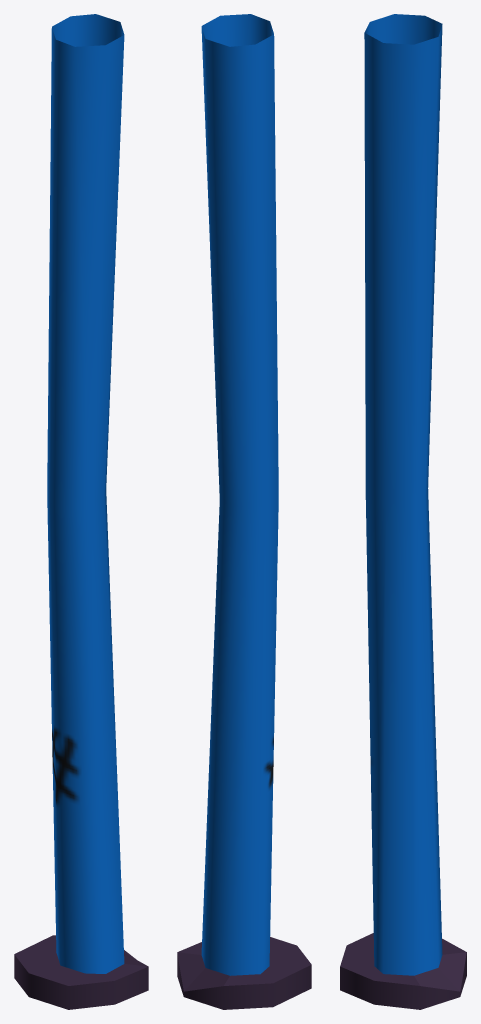
File: Tap_Half_Pipe_.fbx
The picture shows the model from 3 angles, left to right: view 1: azimuth 30°, elevation 25°; view 2: azimuth 210°, elevation 25°; view 3: azimuth 330°, elevation 25°; orthographic projection.
Parts seen in each view (by area): view 1: Cylinder005; view 2: Cylinder005; view 3: Cylinder005.
Part boxes in pixels (x1,y1,x2,y2): Cylinder005: (14,14,148,1009); Cylinder005: (177,14,311,1009); Cylinder005: (340,14,466,1009).
Size of the model in its own units: 0.1093 by 0.8772 by 0.1035.
